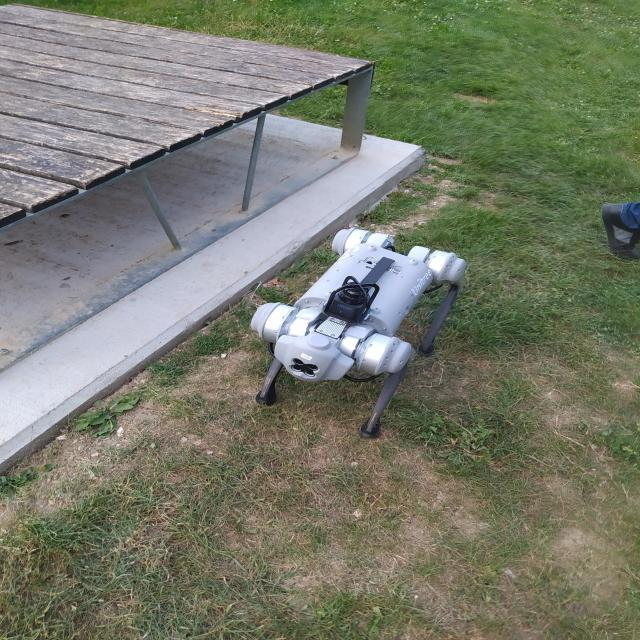unitree-go1-robot: (240, 222, 481, 442)
